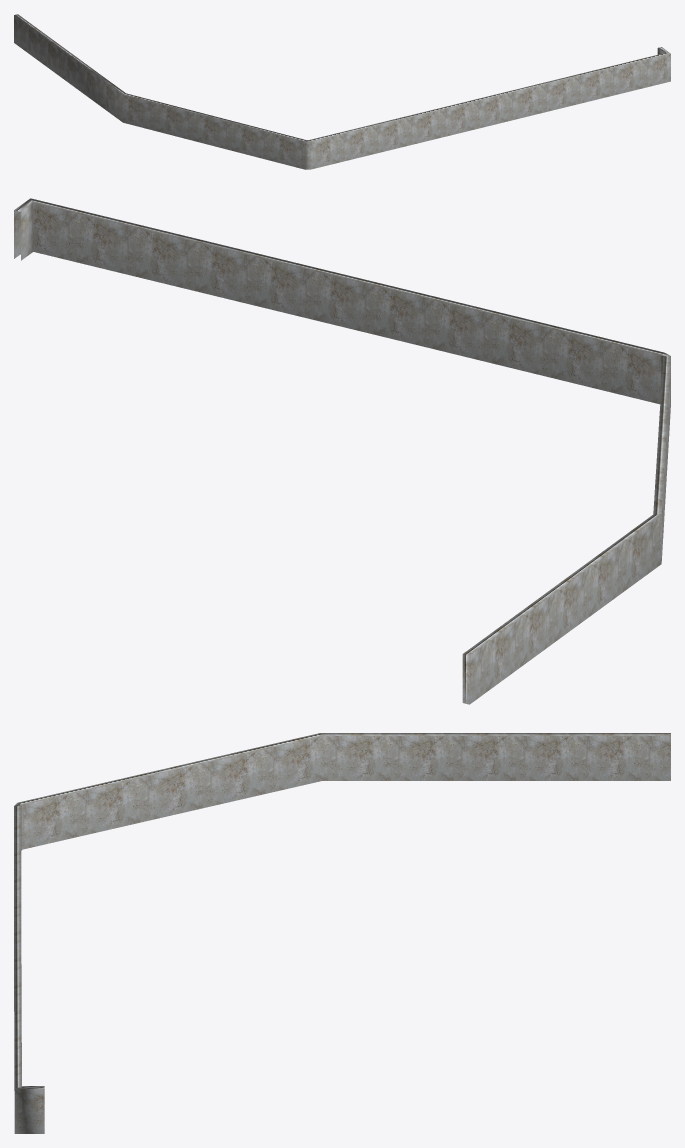
Rendered from mauer_baustoffhandel.fbx.
3 renders of one model, top to bottom at view 1: azimuth 30°, elevation 25°; view 2: azimuth 150°, elevation 25°; view 3: azimuth 270°, elevation 25°, orthographic. The views are drawn at different scales.
Visible parts, largest first — view 1: Mesh; view 2: Mesh; view 3: Mesh.
Boxes of the visible parts, <box> form: Mesh: <box>14,14,670,169</box>; Mesh: <box>14,198,670,704</box>; Mesh: <box>14,733,670,1133</box>.
Bounding box in the file's own units: 4036 × 237 × 3147.
